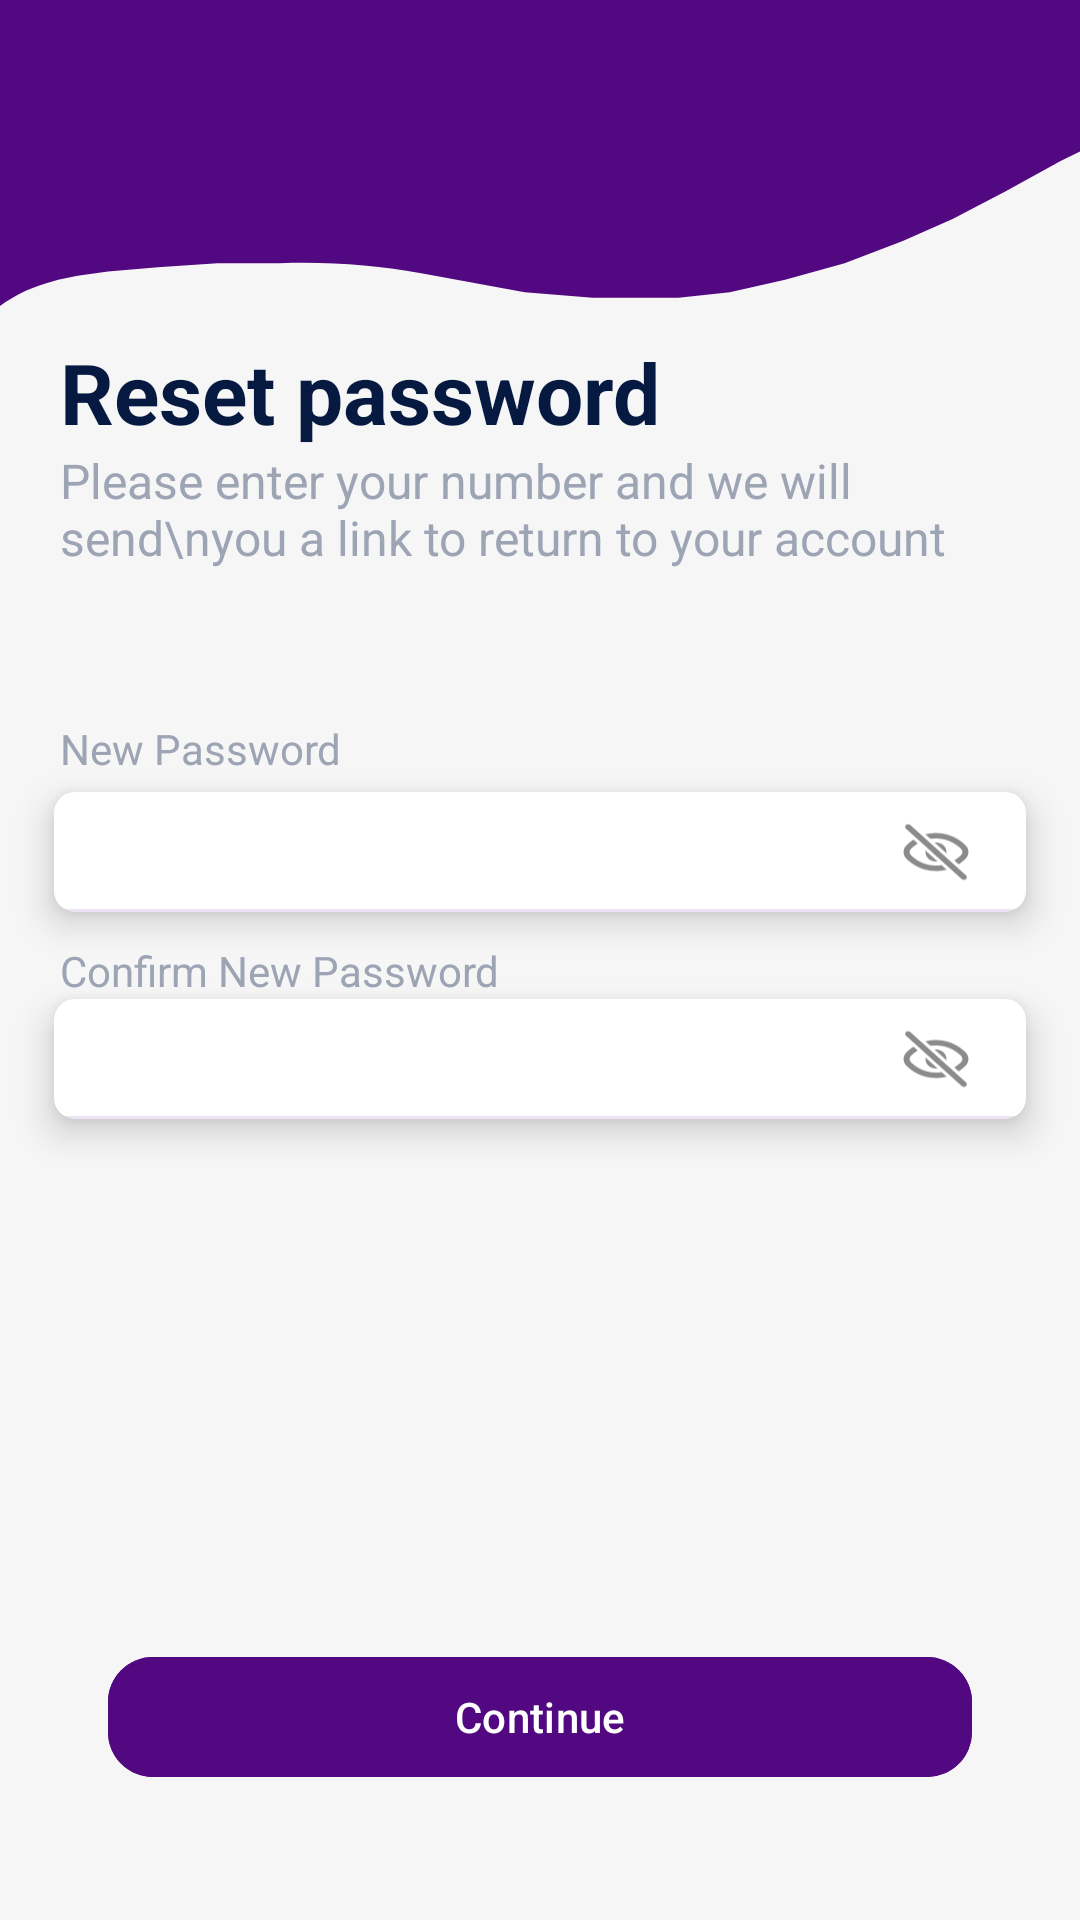

Locate icon controls on the screen. Image size 1080×1920, boxes as (x1, y1, x2, y2).
eye login: (903, 824, 969, 880), (903, 1031, 969, 1087)
